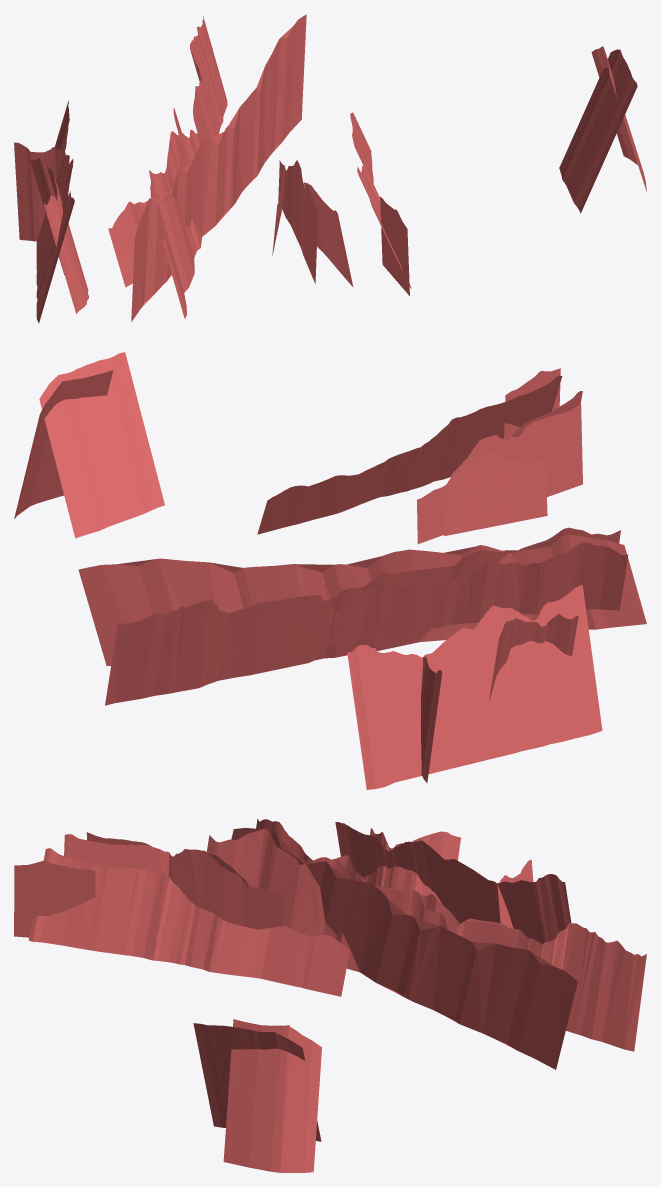
File: struct-surface.glb
3 renders of one model, top to bottom at view 1: azimuth 30°, elevation 25°; view 2: azimuth 150°, elevation 25°; view 3: azimuth 270°, elevation 25°, orthographic. The views are drawn at different scales.
Visible parts, largest first — view 1: F11-1, F10-1, f25, f7, F19, f6, f3, f16, f18, f17, f9, f27; view 2: f7, F11-1, F10-1, F19, f25, f9, f12, f16, f27, f6, f3, f18; view 3: F11-1, f9, F10-1, f27, f7, f16, f18, f25, f17, f6, F19, f3.
Boxes of the visible parts, bbox=[...] form: F11-1: bbox=[131, 14, 306, 321]; F10-1: bbox=[156, 14, 227, 318]; f25: bbox=[559, 49, 637, 213]; f7: bbox=[36, 101, 74, 323]; F19: bbox=[108, 108, 181, 287]; f6: bbox=[30, 158, 88, 313]; f3: bbox=[14, 142, 64, 241]; f16: bbox=[278, 160, 318, 284]; f18: bbox=[380, 196, 409, 295]; f17: bbox=[304, 182, 353, 286]; f9: bbox=[350, 112, 411, 288]; f27: bbox=[591, 46, 646, 192]; f7: bbox=[347, 585, 602, 789]; F11-1: bbox=[78, 534, 646, 665]; F10-1: bbox=[105, 527, 620, 705]; F19: bbox=[280, 542, 628, 660]; f25: bbox=[39, 352, 164, 538]; f9: bbox=[257, 375, 562, 534]; f12: bbox=[442, 451, 547, 535]; f16: bbox=[417, 404, 582, 543]; f27: bbox=[14, 370, 113, 518]; f6: bbox=[488, 614, 578, 701]; f3: bbox=[421, 656, 442, 783]; f18: bbox=[504, 368, 560, 440]; F11-1: bbox=[231, 827, 577, 1069]; f9: bbox=[28, 848, 349, 996]; F10-1: bbox=[207, 828, 646, 1051]; f27: bbox=[223, 1019, 321, 1172]; f7: bbox=[335, 822, 571, 944]; f16: bbox=[86, 832, 283, 929]; f18: bbox=[14, 860, 95, 937]; f25: bbox=[193, 1023, 321, 1141]; f17: bbox=[64, 834, 169, 876]; f6: bbox=[364, 828, 460, 904]; F19: bbox=[256, 818, 507, 929]; f3: bbox=[497, 859, 533, 928].
Bounding box in the file's own units: 3631 × 1074 × 3419.
